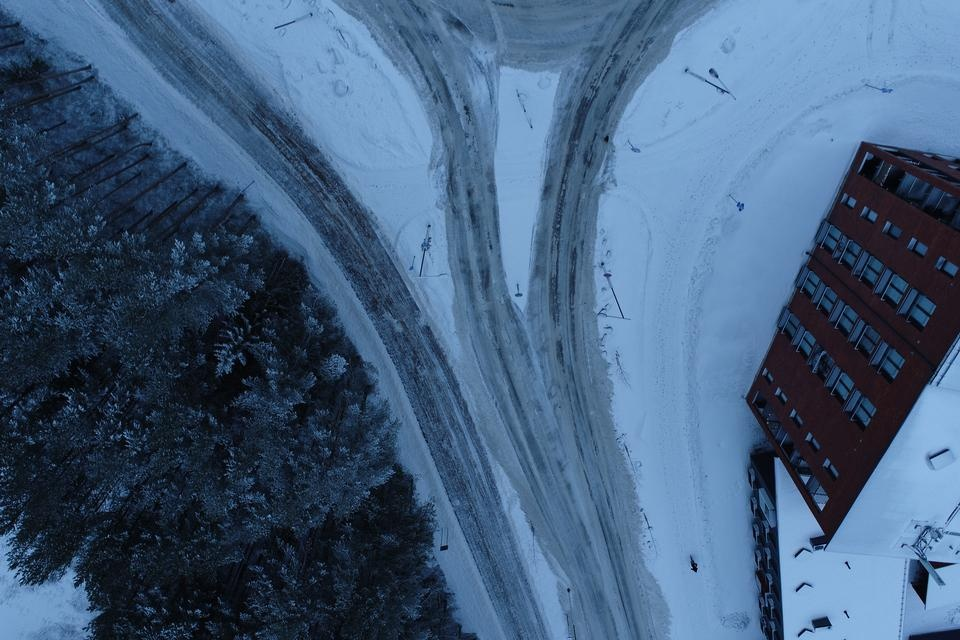roundabout: (263, 0, 768, 102)
